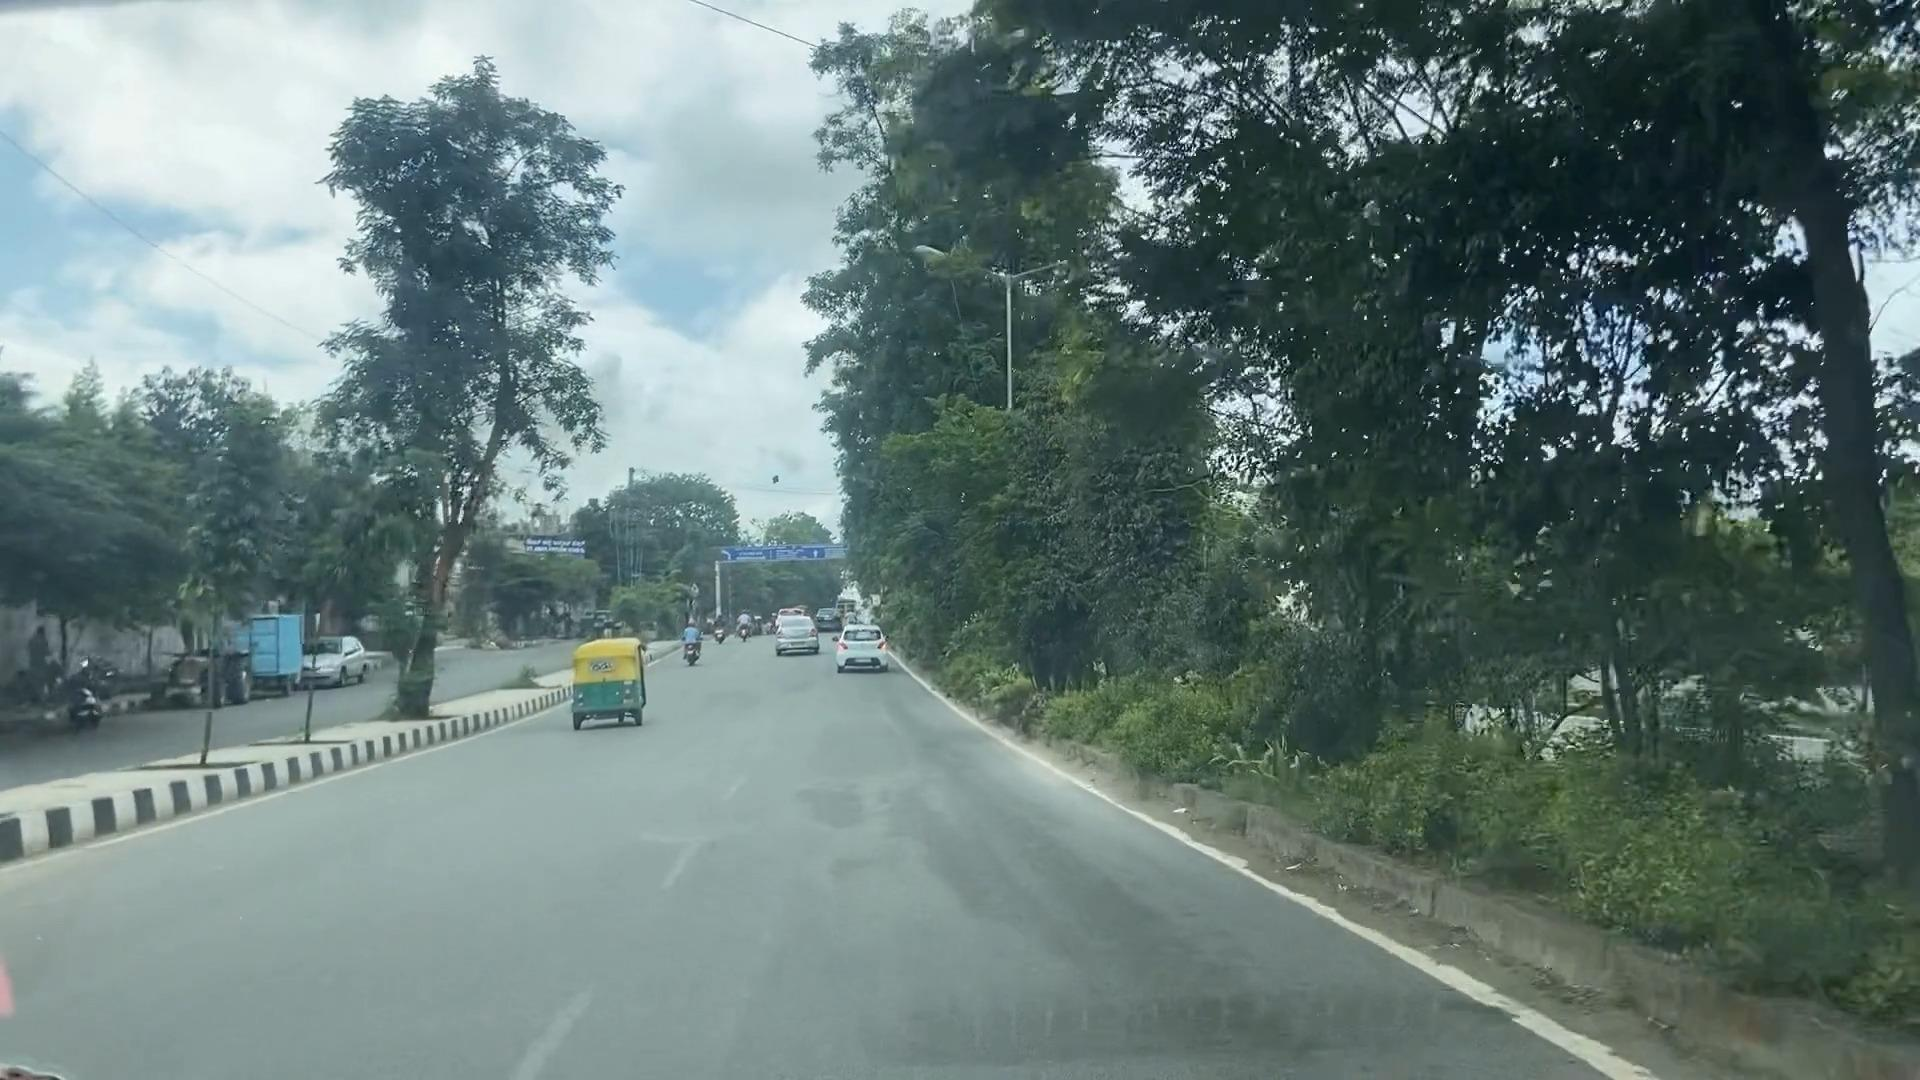LMV: (576, 636, 649, 721), (774, 615, 818, 653), (844, 626, 878, 666), (682, 618, 705, 670)
